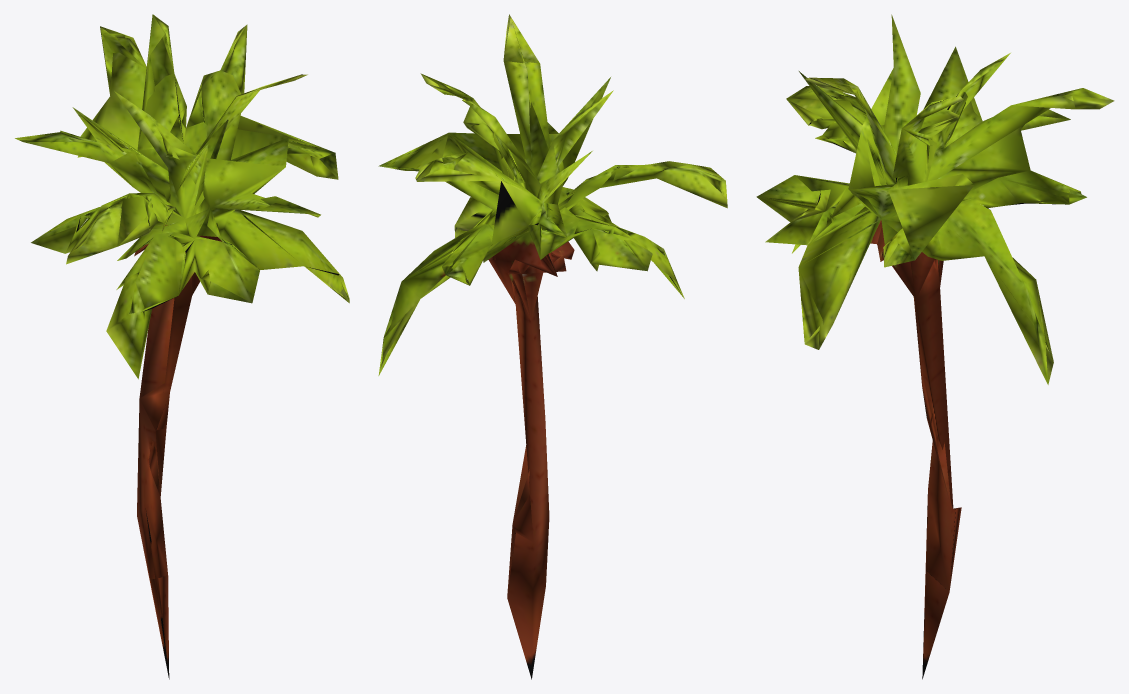
File: palm2.fbx
3 views of the same model, side by side, from view 1: azimuth 30°, elevation 25°; view 2: azimuth 150°, elevation 25°; view 3: azimuth 270°, elevation 25° (orthographic). The views are drawn at different scales.
Visible parts, largest first — view 1: Major_palm2; view 2: Major_palm2; view 3: Major_palm2.
Part boxes in pixels (bbox=[...]): Major_palm2: bbox=[15, 14, 349, 679]; Major_palm2: bbox=[378, 14, 727, 679]; Major_palm2: bbox=[756, 14, 1114, 679].
Size of the model in its own units: 2.24 by 4.26 by 2.16.
Materials: 1 (1 with a texture image).
